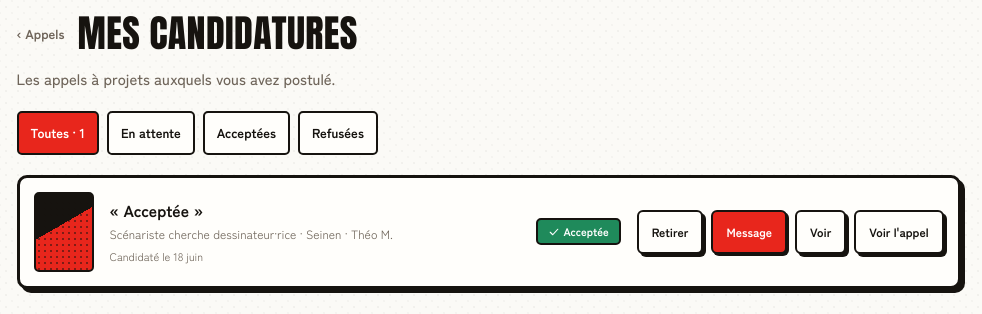
Test case: MesCandidaturesClient (MC-6) › offers "Retirer" on an accepted application and withdraws it via inline confirm
expect the text "« Acceptée »" is shown: met, box [110,198,203,222]
Click the button "Retirer".
click(670, 232)  # box [637,210,703,254]
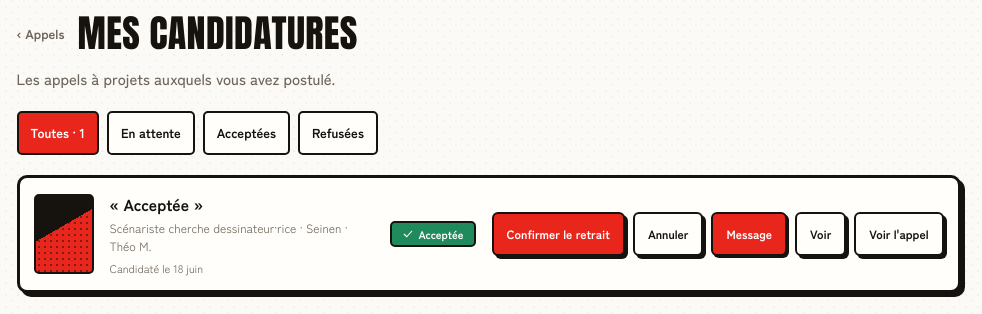
Click the button "Confirmer le retrait".
click(558, 234)  # box [492,212,625,256]
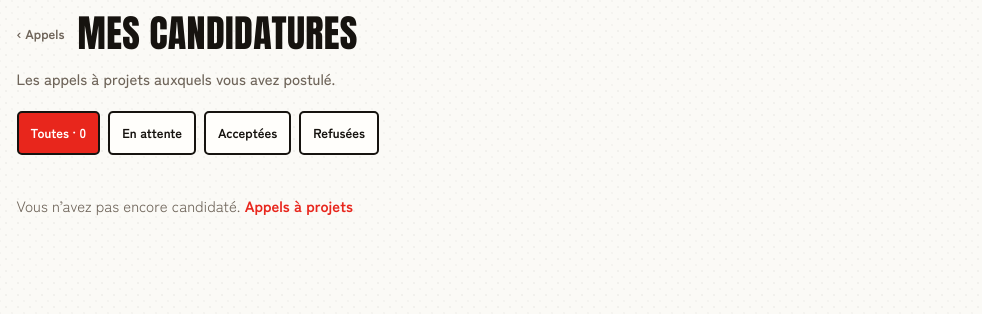
expect the text "« Acceptée »" is gone: met
